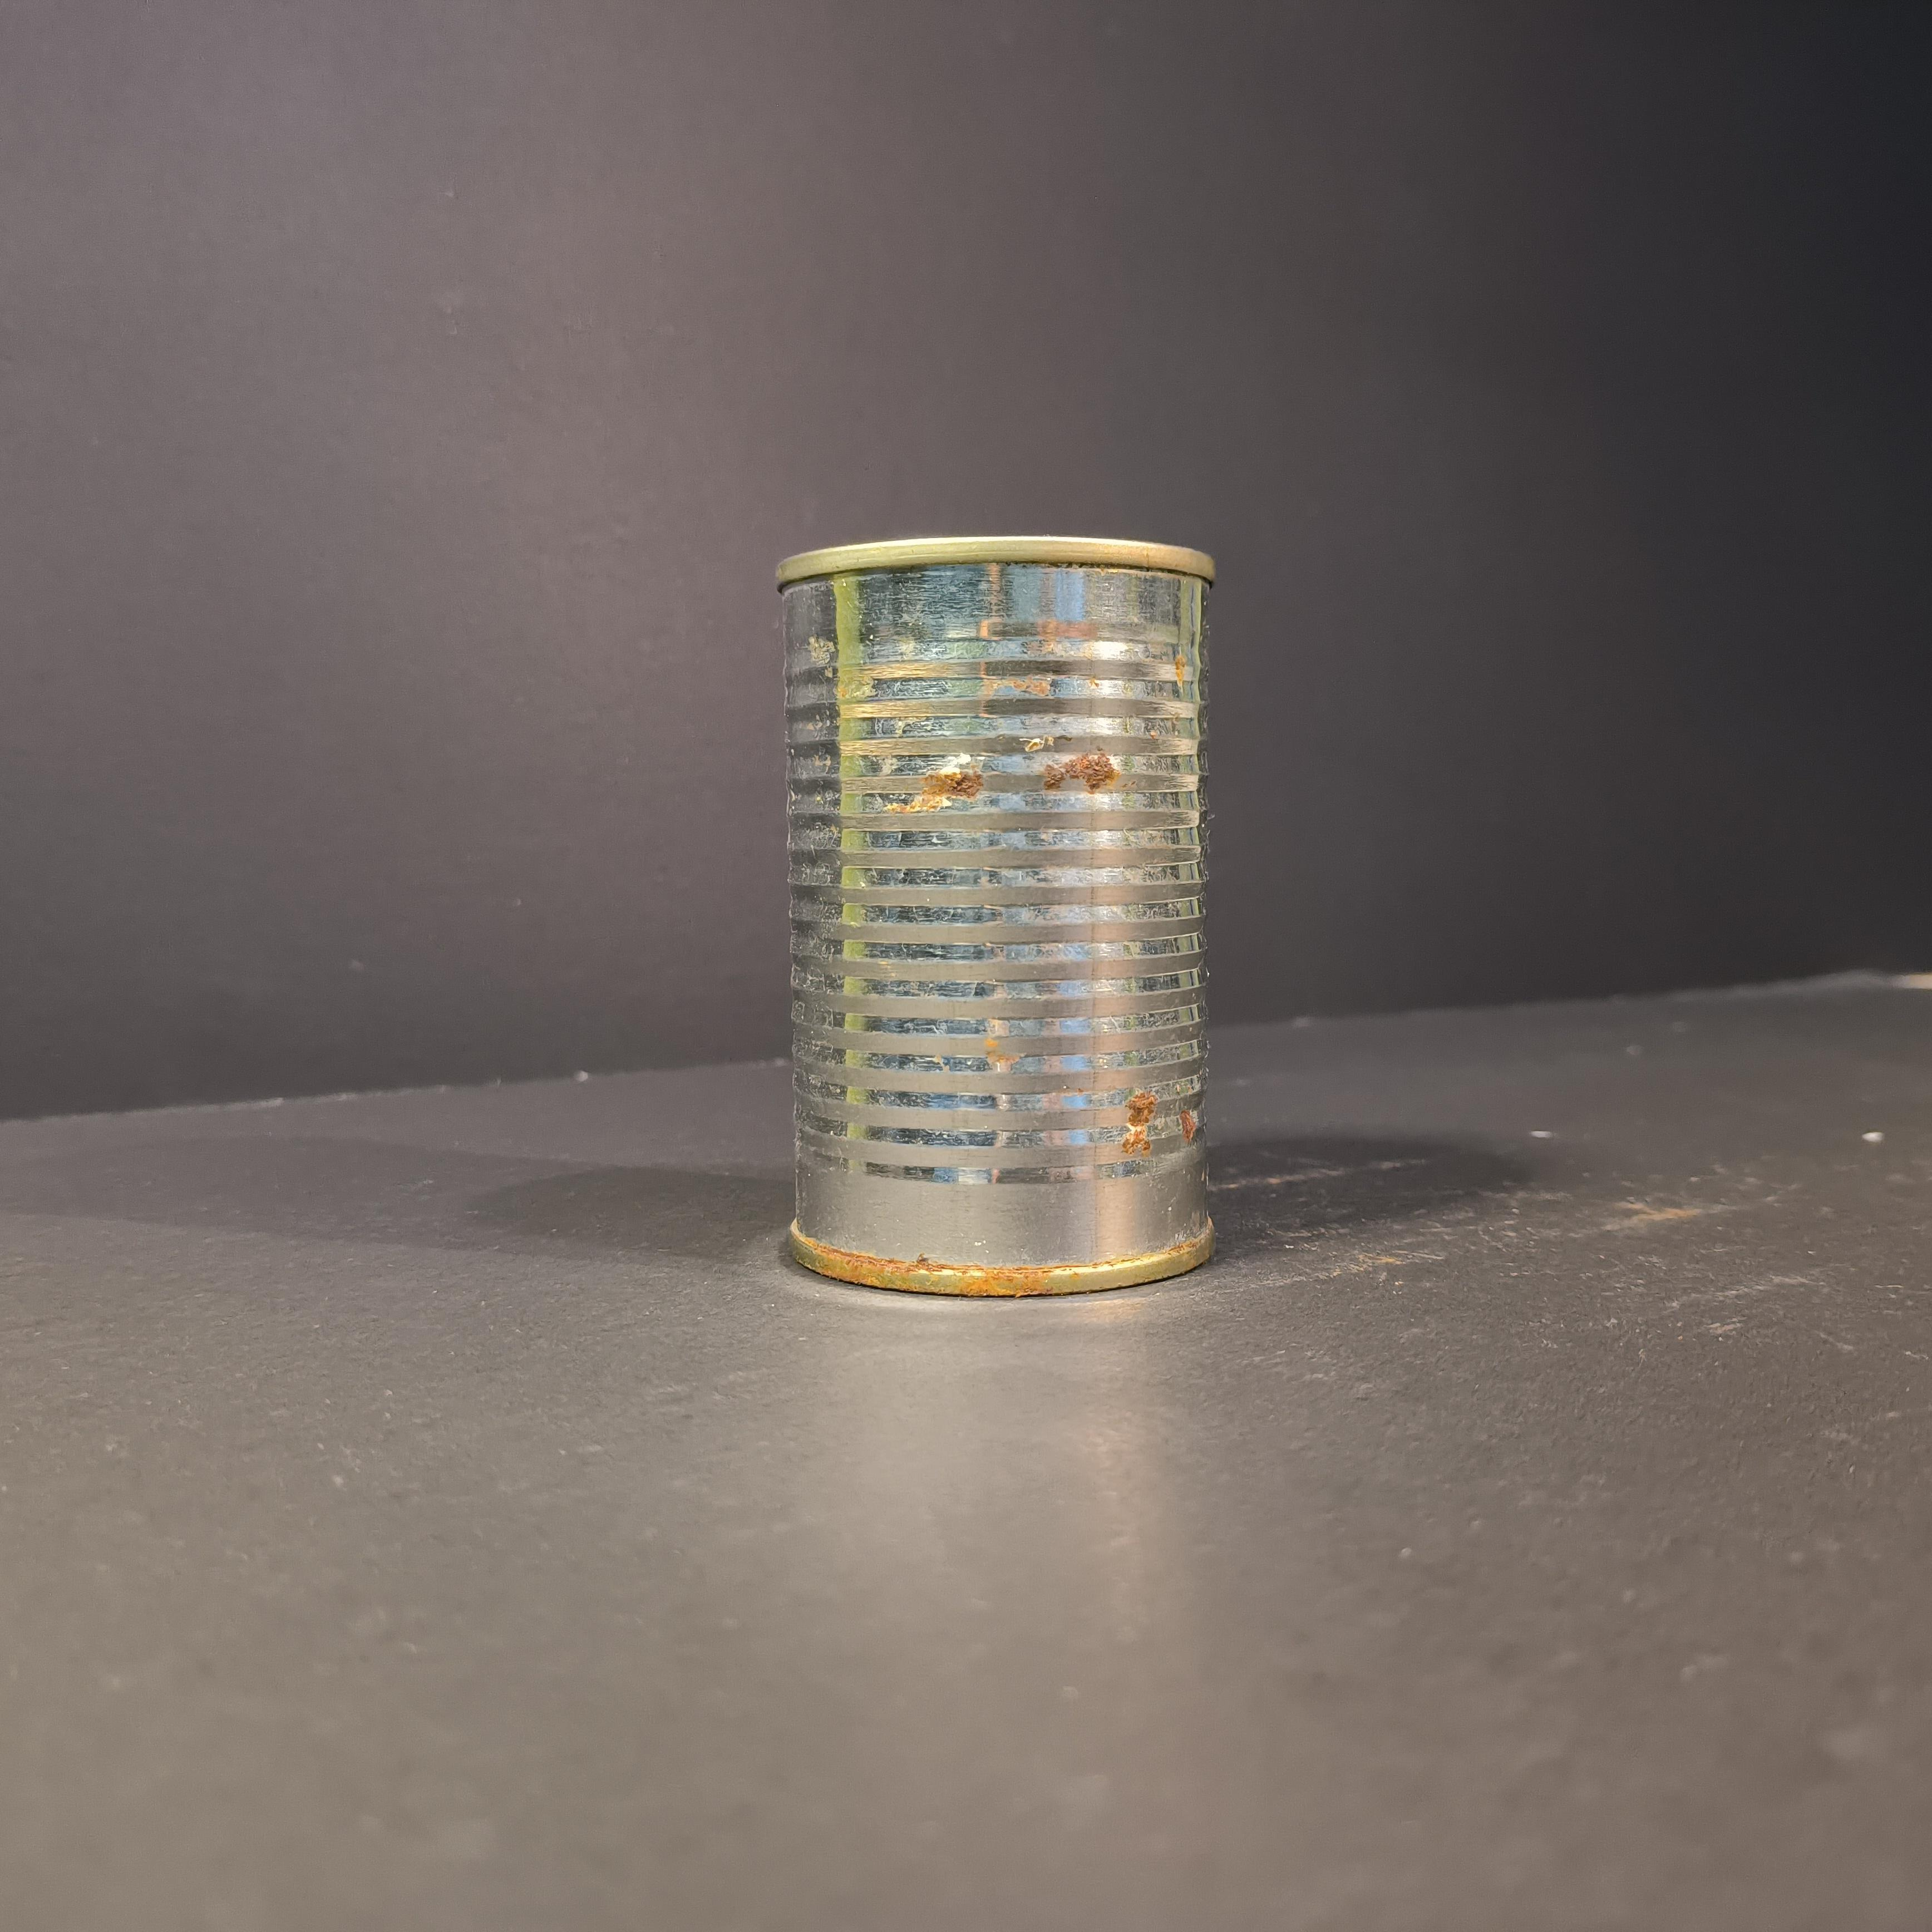Rusted: (764, 524, 1244, 1302)
